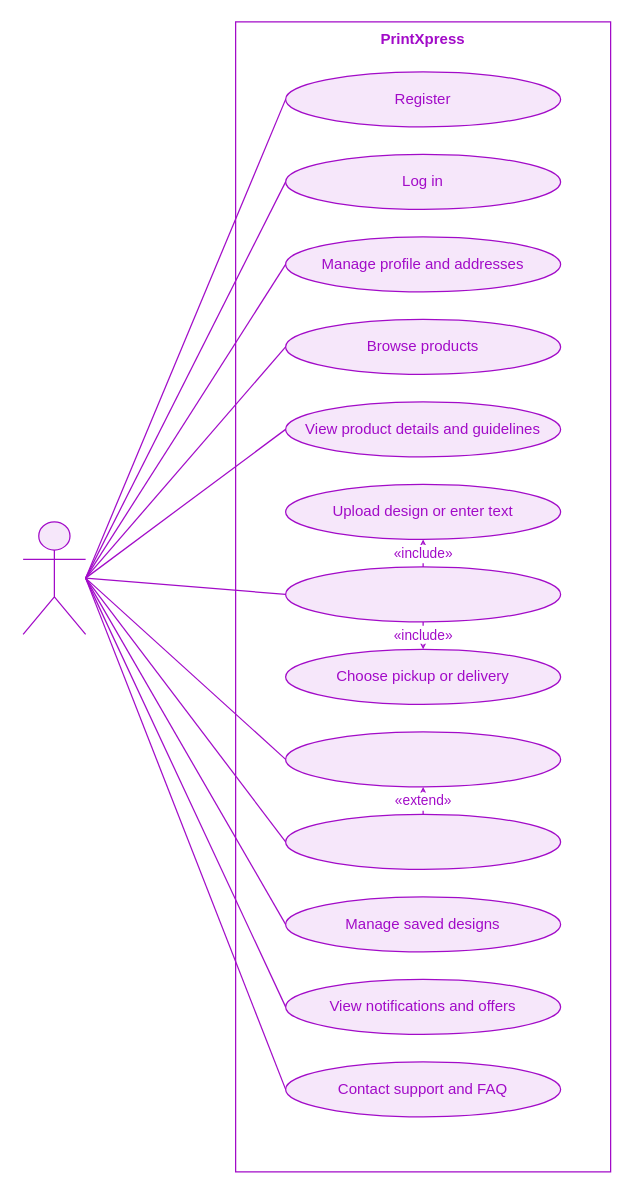
Some shapes in this 633 by 1194 pixel diagram are drawn without their labels. Here are the shapes that lost their labels. From the top down, the centre of each, then its label:
the point at 54,577: Customer
the point at 422,594: Place an order
the point at 422,759: Track order status
the point at 422,841: Reschedule or cancel order
